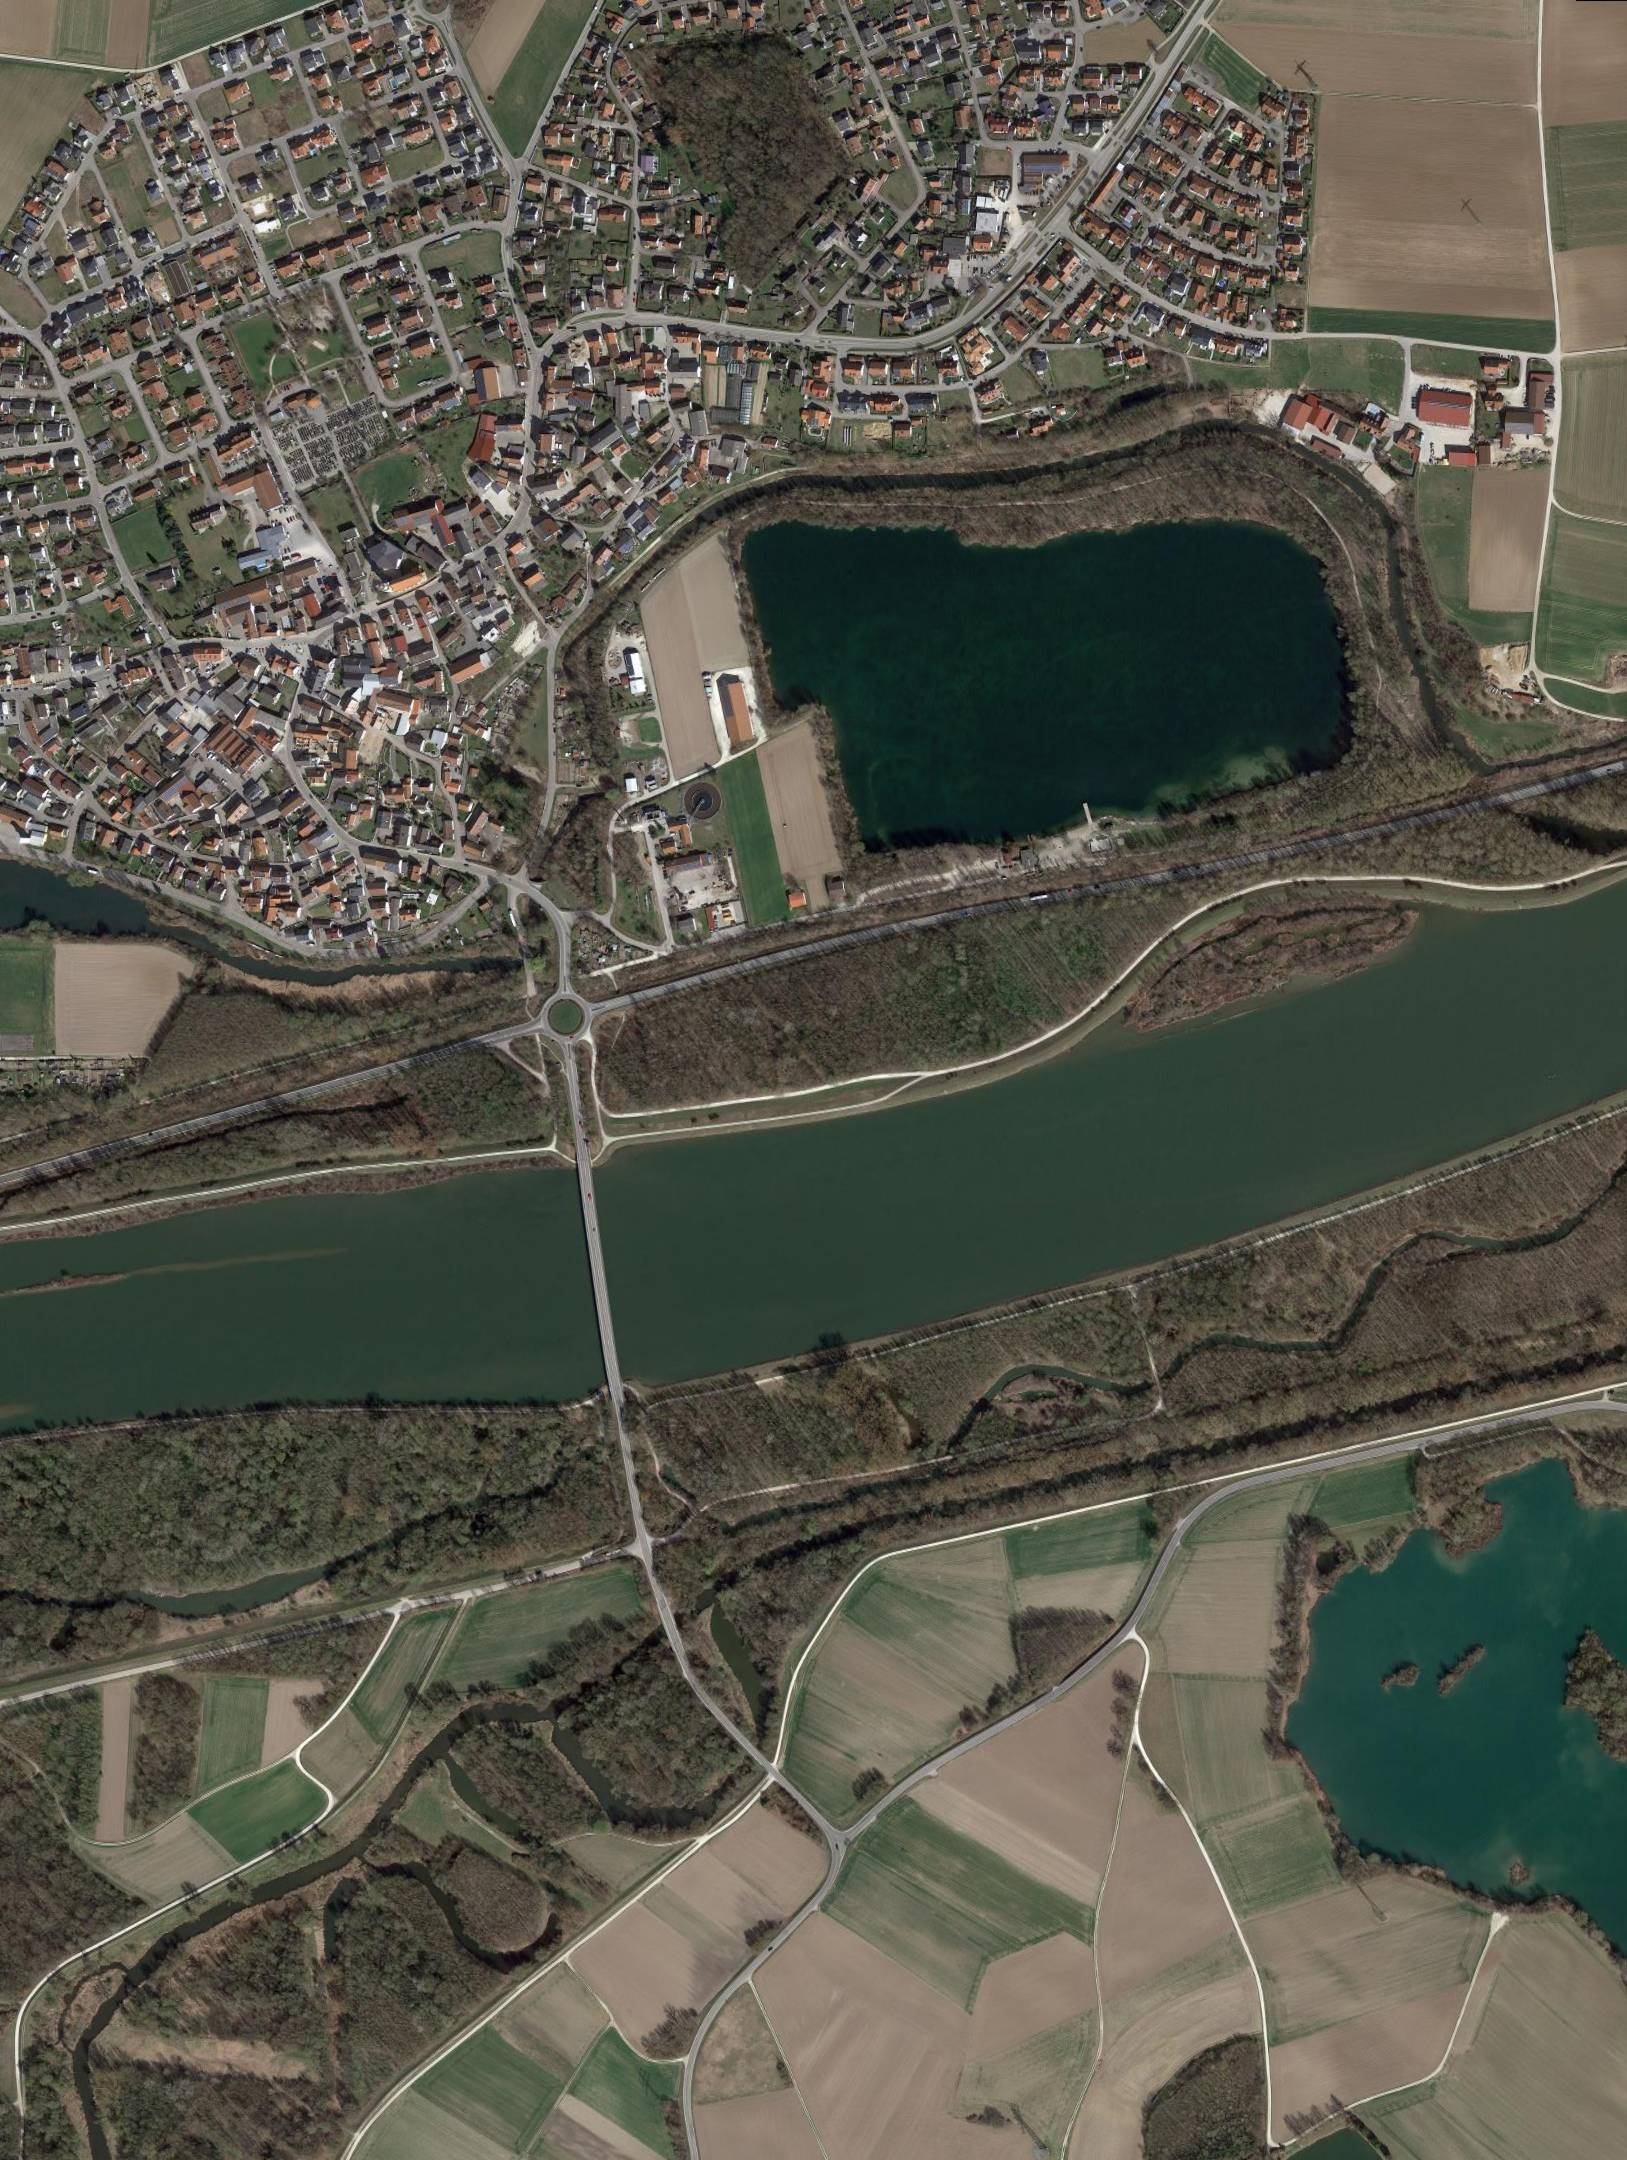bridge: (579, 1165, 624, 1379), (747, 1743, 766, 1762), (663, 1617, 678, 1635)
roundabout: (545, 993, 590, 1041)
